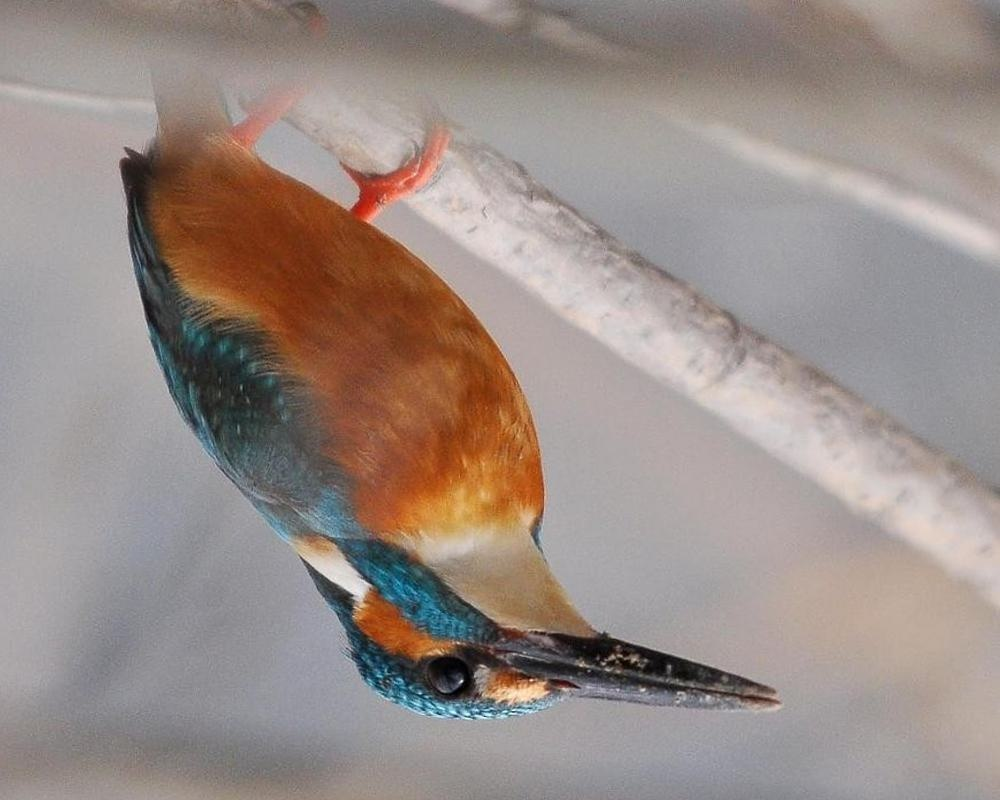kingfisher: (124, 52, 795, 751)
